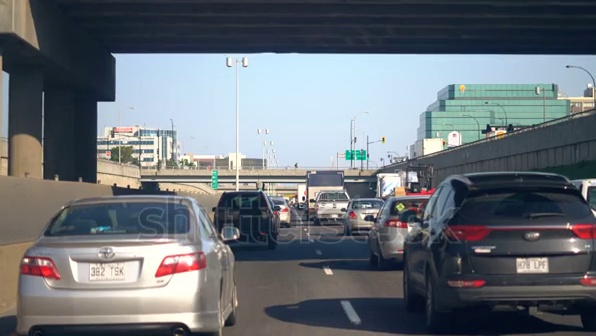licenseplate: (84, 257, 137, 282), (509, 254, 562, 277)
